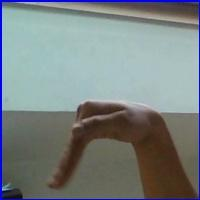A: (41, 91, 168, 191)
